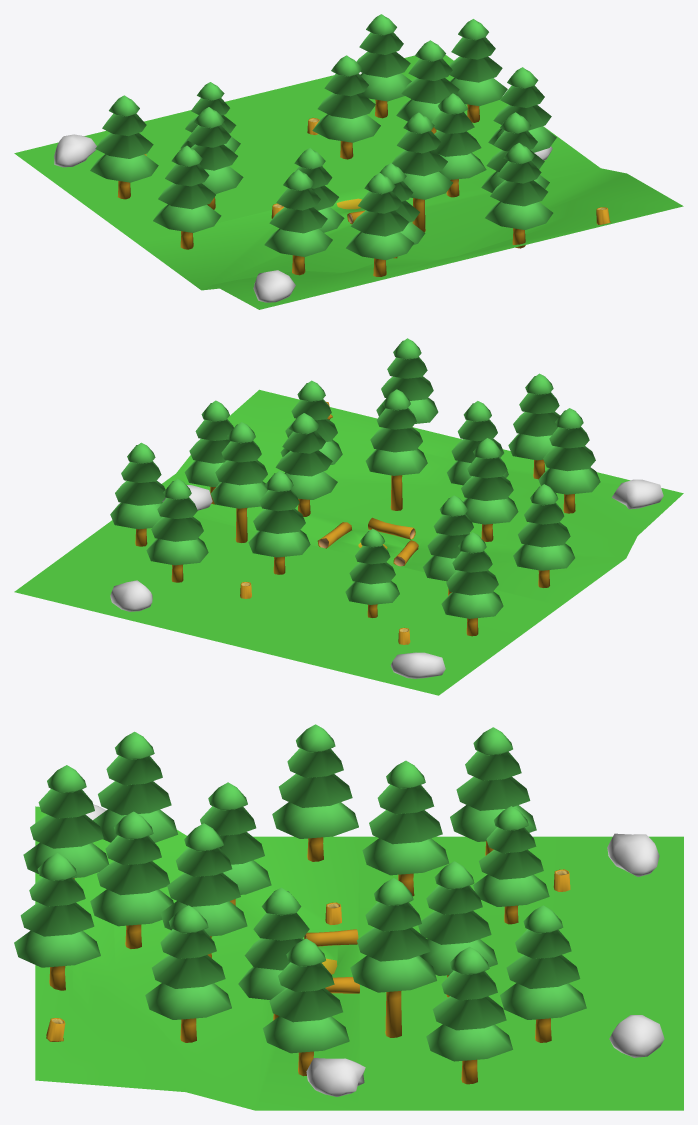
Rendered from Bosque.fbx.
The picture shows the model from 3 angles, top to bottom: view 1: azimuth 30°, elevation 25°; view 2: azimuth 150°, elevation 25°; view 3: azimuth 270°, elevation 25°; orthographic projection. The views are drawn at different scales.
Visible parts, largest first — view 1: Plane, Arbol_014, Arbol_015, Arbol_002, Arbol_013, Arbol_012, Arbol_010, Arbol_023, Arbol_001, Arbol_007, Arbol, Arbol_003 (+8 smaller); view 2: Plane, Arbol_001, Arbol_003, Arbol_007, Arbol_002, Arbol_013, Arbol_012, Arbol_014, Arbol_005, Arbol_023, Arbol, Arbol_015 (+10 smaller); view 3: Plane, Arbol_003, Arbol_023, Arbol_008, Arbol_012, Arbol_007, Arbol_010, Arbol_011, Arbol_009, Arbol_004, Arbol_015, Arbol_013 (+10 smaller).
Boxes of the visible parts, x1,y1,x2,y2 form: Plane: (14,55,683,309); Arbol_014: (264,169,332,275); Arbol_015: (346,173,414,276); Arbol_002: (312,55,380,159); Arbol_013: (90,95,158,199); Arbol_012: (153,145,221,249); Arbol_010: (485,143,553,248); Arbol_023: (449,19,507,122); Arbol_001: (392,112,452,232); Arbol_007: (356,14,411,118); Arbol: (431,93,486,197); Arbol_003: (396,40,459,133); Plane: (14,389,683,695); Arbol_001: (365,389,427,510); Arbol_003: (211,422,267,542); Arbol_007: (146,478,208,582); Arbol_002: (248,471,310,574); Arbol_013: (441,532,503,636); Arbol_012: (513,484,574,587); Arbol_014: (538,408,600,513); Arbol_005: (461,438,518,541); Arbol_023: (110,442,165,546); Arbol: (275,413,337,516); Arbol_015: (508,373,560,479); Plane: (35,806,683,1110); Arbol_003: (350,878,436,1037); Arbol_023: (426,946,512,1084); Arbol_008: (145,905,231,1042); Arbol_012: (272,724,358,861); Arbol_007: (500,905,586,1042); Arbol_010: (14,853,100,990); Arbol_011: (263,938,349,1076); Arbol_009: (90,811,173,948); Arbol_004: (362,760,449,896); Arbol_015: (23,765,109,878); Arbol_013: (450,727,536,855).
Size of the model in its own units: 25.68 by 7.21 by 26.53.
